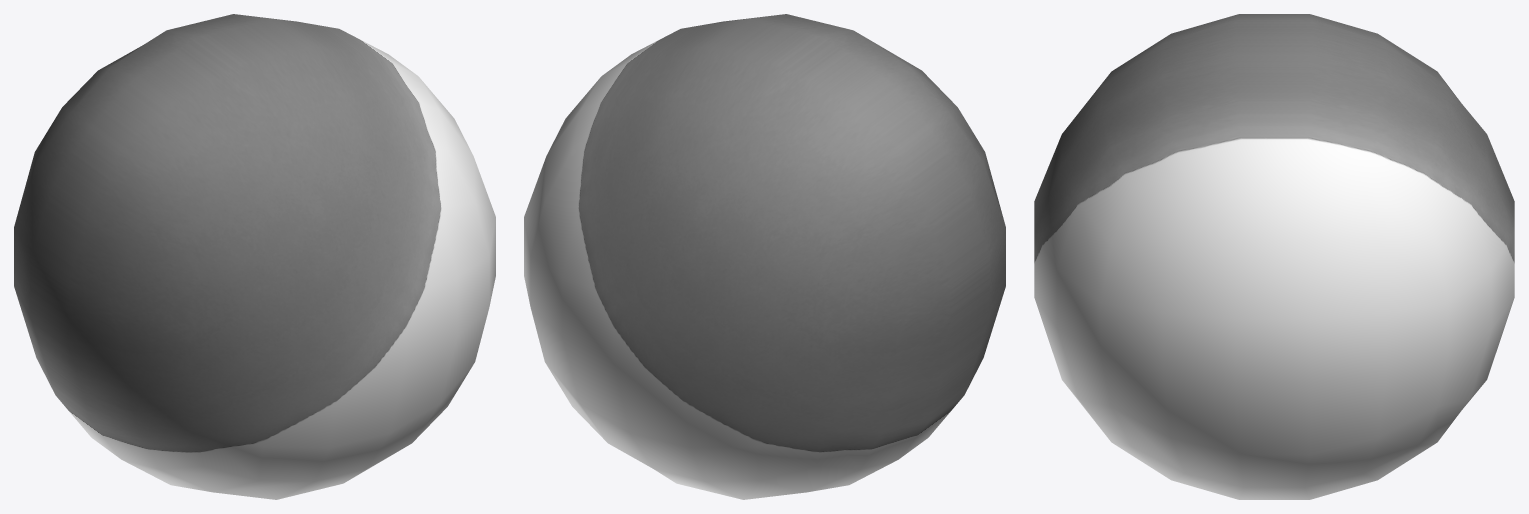
Rendered from Prop_Ball.fbx.
3 views of the same model, side by side, from view 1: azimuth 30°, elevation 25°; view 2: azimuth 150°, elevation 25°; view 3: azimuth 270°, elevation 25° (orthographic).
Parts seen in each view (by area): view 1: Prop_Ball; view 2: Prop_Ball; view 3: Prop_Ball.
Boxes of the visible parts, x1,y1,x2,y2 form: Prop_Ball: [14, 14, 495, 499]; Prop_Ball: [524, 14, 1005, 499]; Prop_Ball: [1034, 14, 1514, 499].
Bounding box in the file's own units: 70 × 70 × 70.
1 material, 1 textured.
